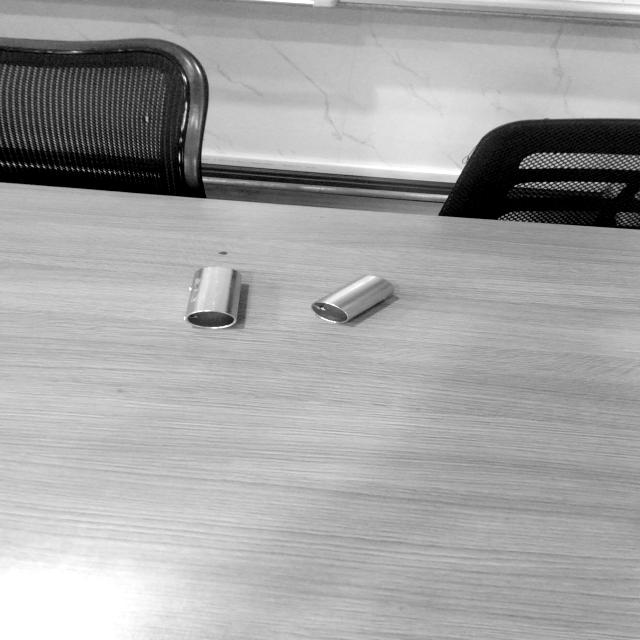Co_Lon: (184, 263, 243, 332)
Co_Nho: (310, 265, 397, 334)
